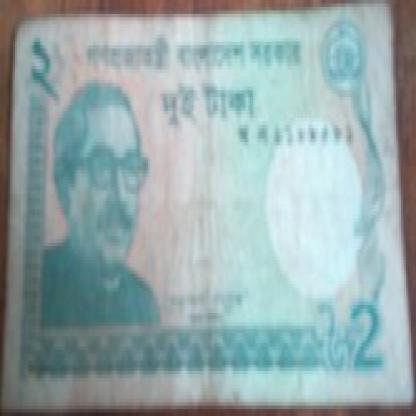two taka: (343, 277, 379, 399), (30, 17, 60, 122)
